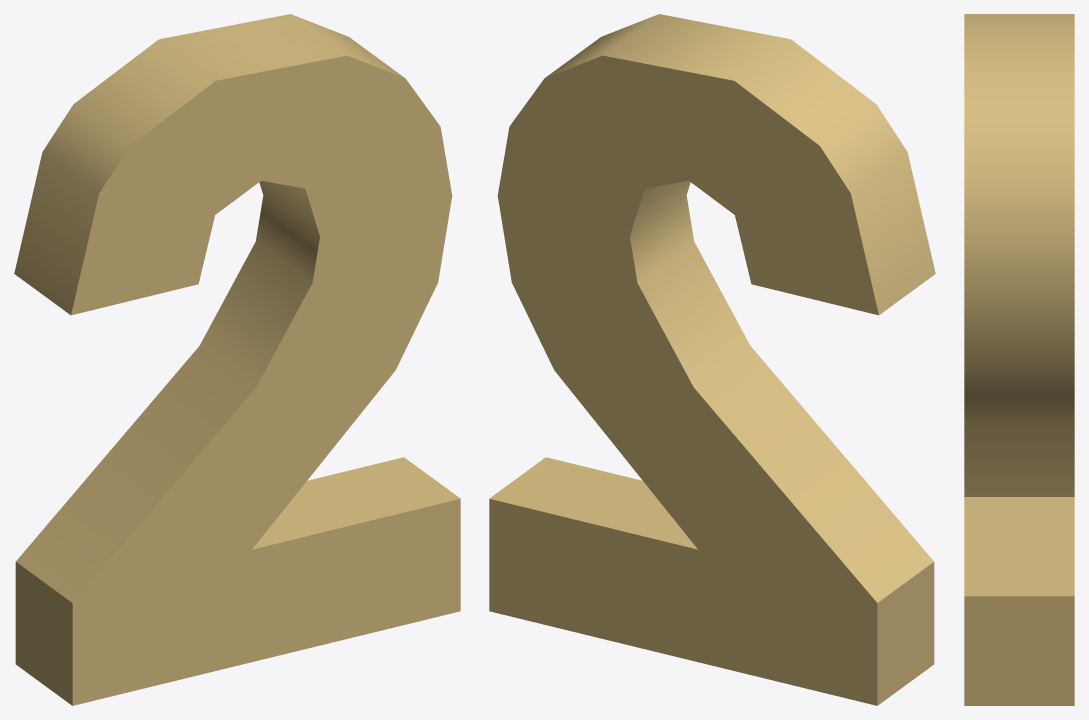
File: kr_num_2.glb
3 renders of one model, left to right at view 1: azimuth 30°, elevation 25°; view 2: azimuth 150°, elevation 25°; view 3: azimuth 270°, elevation 25°, orthographic. The views are drawn at different scales.
Visible parts, largest first — view 1: vc_m8_r2; view 2: vc_m8_r2; view 3: vc_m8_r2.
Boxes of the visible parts, box(x1,y1,x2,y2) form: vc_m8_r2: box(14, 14, 460, 705); vc_m8_r2: box(489, 14, 935, 705); vc_m8_r2: box(964, 14, 1074, 705).
Size of the model in its own units: 0.238 by 0.3443 by 0.06.
